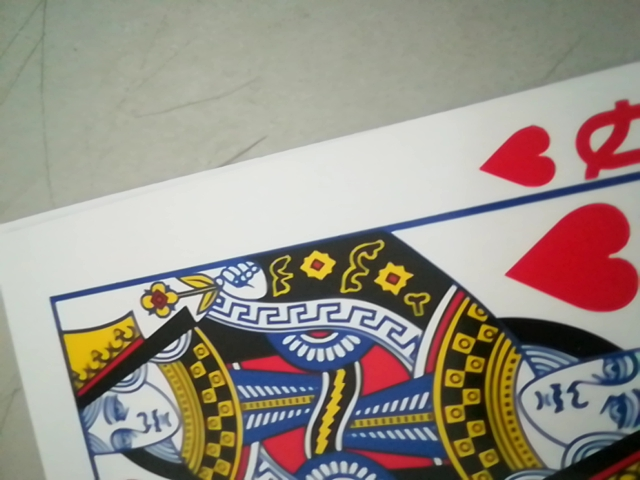hx q: (486, 88, 640, 198)
